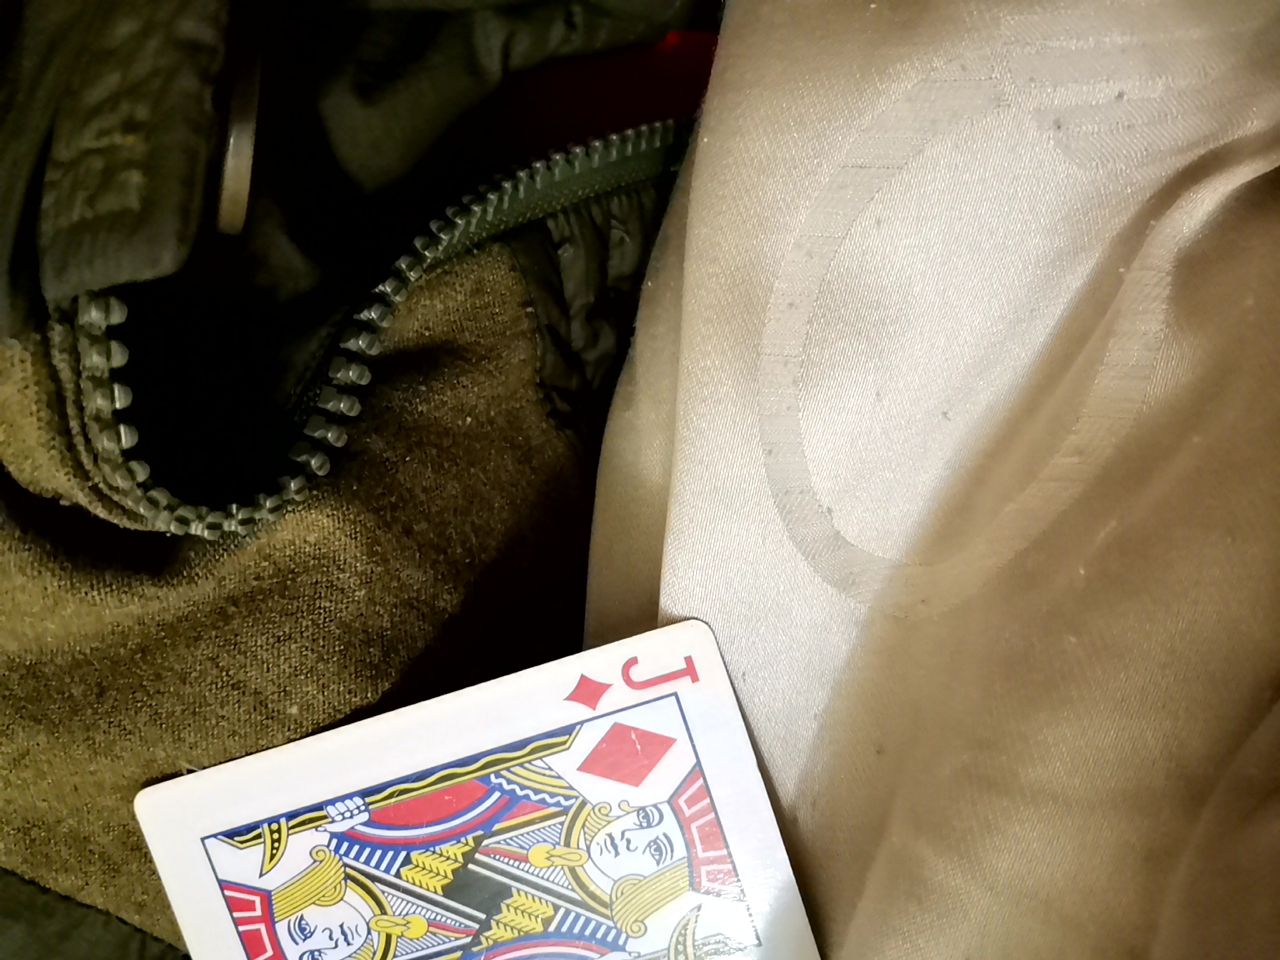fk j: (121, 621, 815, 960)
